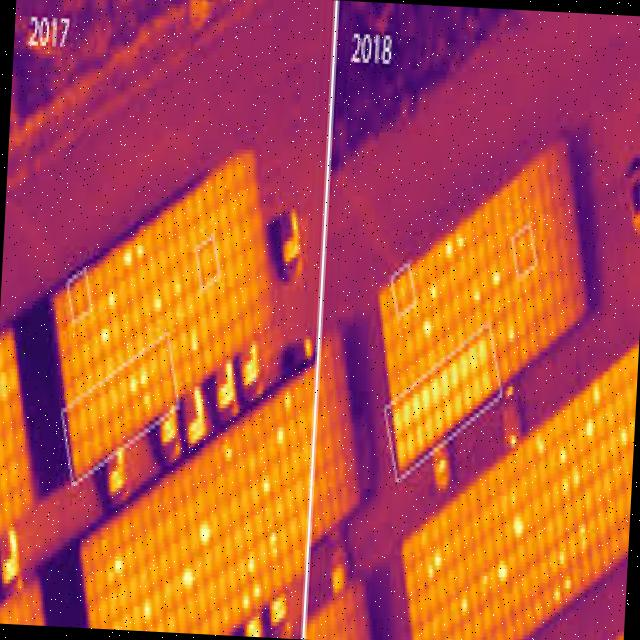Hotspot: (512, 513, 530, 546), (180, 564, 198, 594), (506, 318, 522, 350), (578, 520, 590, 561), (266, 528, 280, 562), (420, 317, 438, 342), (535, 429, 550, 458), (140, 598, 156, 624), (199, 516, 212, 546), (496, 560, 509, 590), (111, 552, 126, 578), (432, 549, 446, 574), (96, 328, 112, 349), (107, 284, 118, 314), (222, 445, 235, 470), (457, 230, 468, 259), (411, 393, 422, 422), (454, 396, 466, 421), (556, 446, 570, 467), (428, 285, 442, 306), (284, 387, 298, 408), (440, 370, 451, 396), (434, 411, 445, 436), (425, 423, 436, 448), (419, 386, 430, 411), (121, 249, 134, 270), (398, 438, 407, 467), (191, 322, 200, 351), (469, 348, 478, 377), (494, 268, 504, 294), (432, 378, 442, 404), (582, 423, 597, 440), (260, 479, 272, 500), (448, 363, 458, 388), (594, 387, 604, 412), (243, 555, 254, 576), (458, 595, 469, 616), (480, 372, 491, 393), (476, 344, 486, 366), (252, 580, 262, 601), (472, 385, 482, 406), (274, 427, 286, 444), (152, 299, 164, 316), (408, 434, 416, 459), (242, 592, 252, 612), (426, 560, 435, 582), (142, 392, 154, 408), (393, 412, 402, 433), (417, 427, 426, 448), (445, 237, 454, 258), (463, 388, 472, 409), (461, 356, 470, 376), (404, 401, 411, 426), (620, 425, 627, 450), (572, 467, 582, 484), (136, 241, 146, 258), (446, 404, 454, 424), (478, 576, 488, 592), (472, 292, 482, 308), (138, 372, 146, 392), (554, 588, 562, 604), (130, 375, 136, 396), (561, 479, 568, 495), (510, 492, 517, 508), (566, 576, 573, 592), (172, 280, 180, 292), (558, 552, 564, 564), (490, 637, 497, 640)
